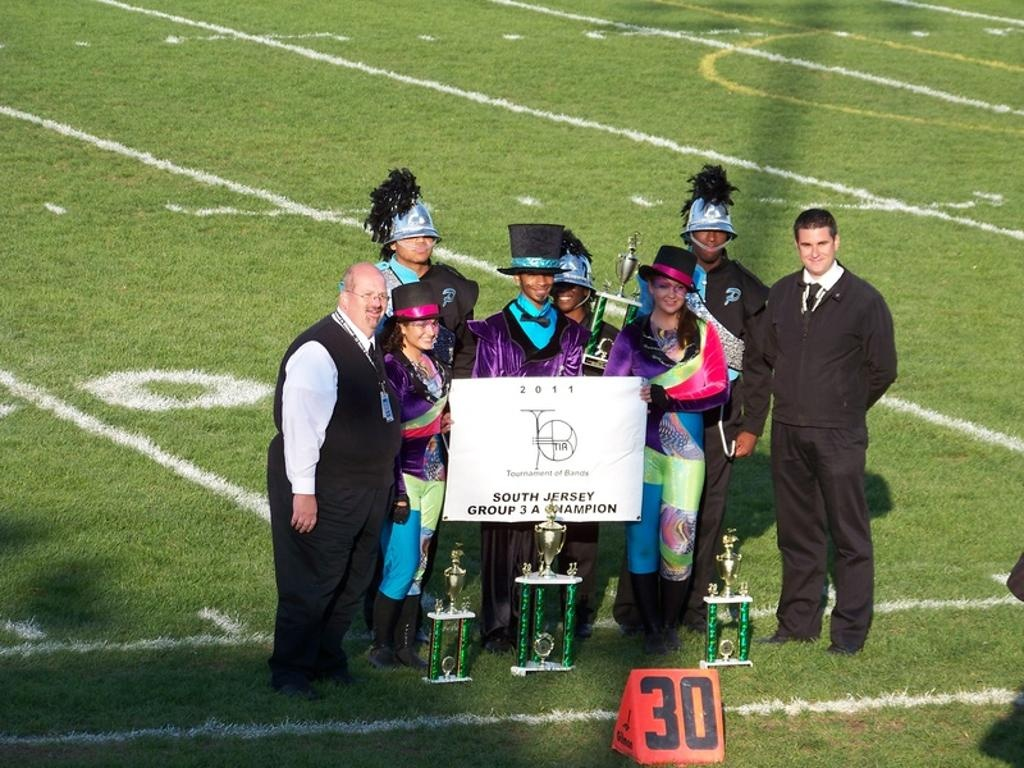human_face: (395, 218, 433, 262), (355, 278, 387, 326), (798, 228, 832, 272), (690, 216, 726, 256), (652, 273, 686, 313), (553, 270, 585, 310), (520, 266, 554, 300), (406, 311, 436, 349)
